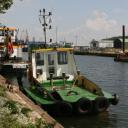tugboat: (17, 9, 122, 119)
